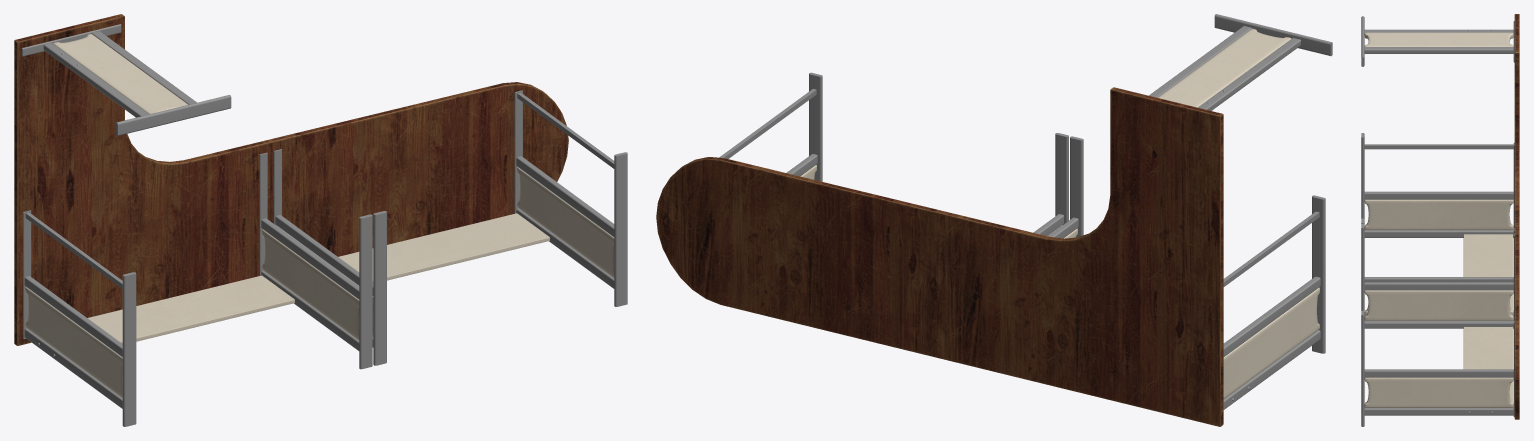
Rendered from office_desk1.glb.
The picture shows the model from 3 angles, left to right: view 1: azimuth 30°, elevation 25°; view 2: azimuth 150°, elevation 25°; view 3: azimuth 270°, elevation 25°; orthographic projection. The views are drawn at different scales.
Visible parts, largest first — view 1: desk_low; view 2: desk_low; view 3: desk_low.
Boxes of the visible parts, x1,y1,x2,y2 form: desk_low: [14, 14, 627, 426]; desk_low: [656, 14, 1332, 426]; desk_low: [1361, 14, 1519, 426].
Size of the model in its own units: 3.15 by 1.68 by 1.05.
1 material, 1 textured.
